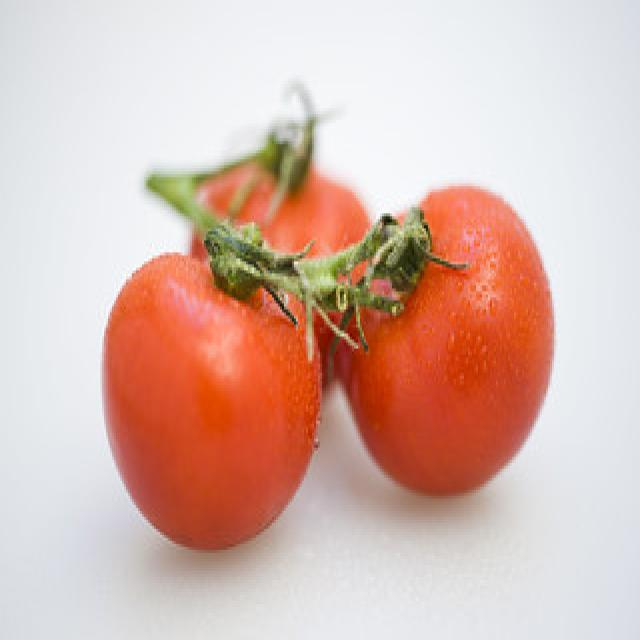Tomato: (97, 229, 328, 554), (332, 180, 558, 500)
